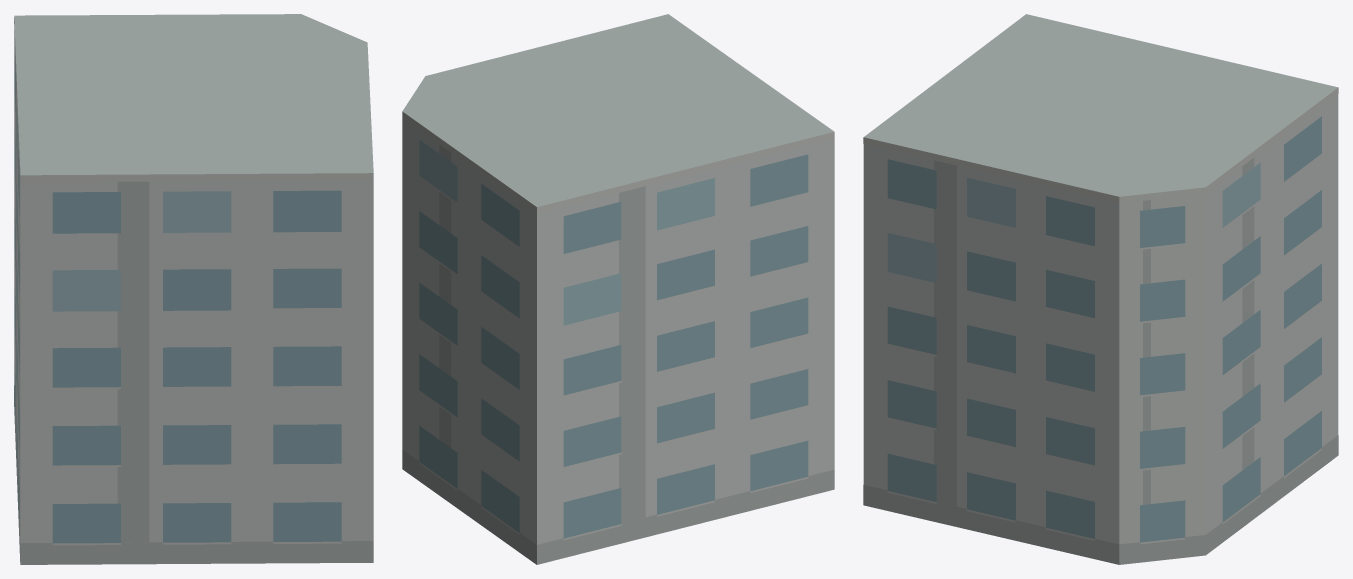
File: survey-upis-32871448.glb
3 views of the same model, side by side, from view 1: azimuth 30°, elevation 25°; view 2: azimuth 150°, elevation 25°; view 3: azimuth 270°, elevation 25° (orthographic). The views are drawn at different scales.
Parts seen in each view (by area): view 1: survey-upis-32871448.tmp; view 2: survey-upis-32871448.tmp; view 3: survey-upis-32871448.tmp.
Part boxes in pixels (box(x1,y1,x2,y2)): survey-upis-32871448.tmp: box(14, 14, 373, 564); survey-upis-32871448.tmp: box(402, 14, 834, 564); survey-upis-32871448.tmp: box(863, 14, 1338, 564).
Bounding box in the file's own units: 14.39 × 13.5 × 15.79.
